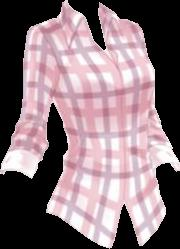Bodice: (33, 0, 165, 247)
Neckline: (66, 0, 115, 50)
Sleeve: (0, 25, 57, 178)
Sleeveline: (32, 25, 58, 100), (6, 148, 38, 162)
Waistline: (44, 202, 166, 248)
